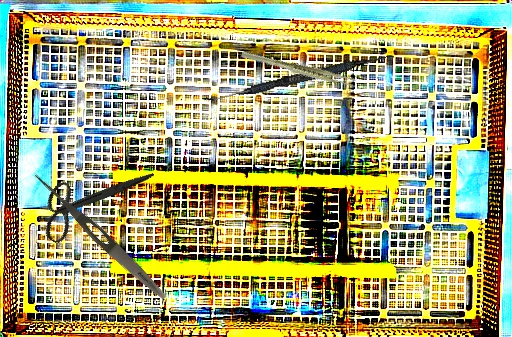Dressing Forceps: (28, 169, 171, 304)
Iris Scissors: (29, 132, 155, 268)
Spatula Surgical: (201, 47, 395, 110)
Tissue Forceps: (240, 30, 358, 107)
